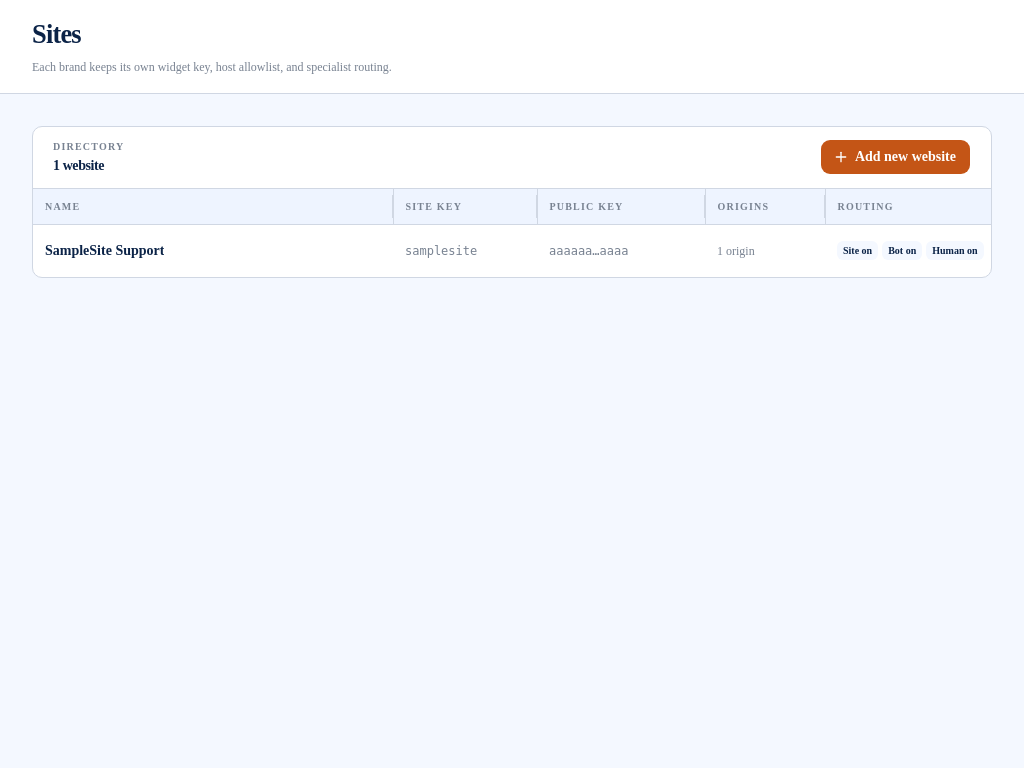
Test: sites add website form › website URL locks its origin into approved origins and that lock cannot be removed
The width and height of the screenshot is (1024, 768).
Click the button "Add new website": (895, 158) [820, 140, 971, 176]
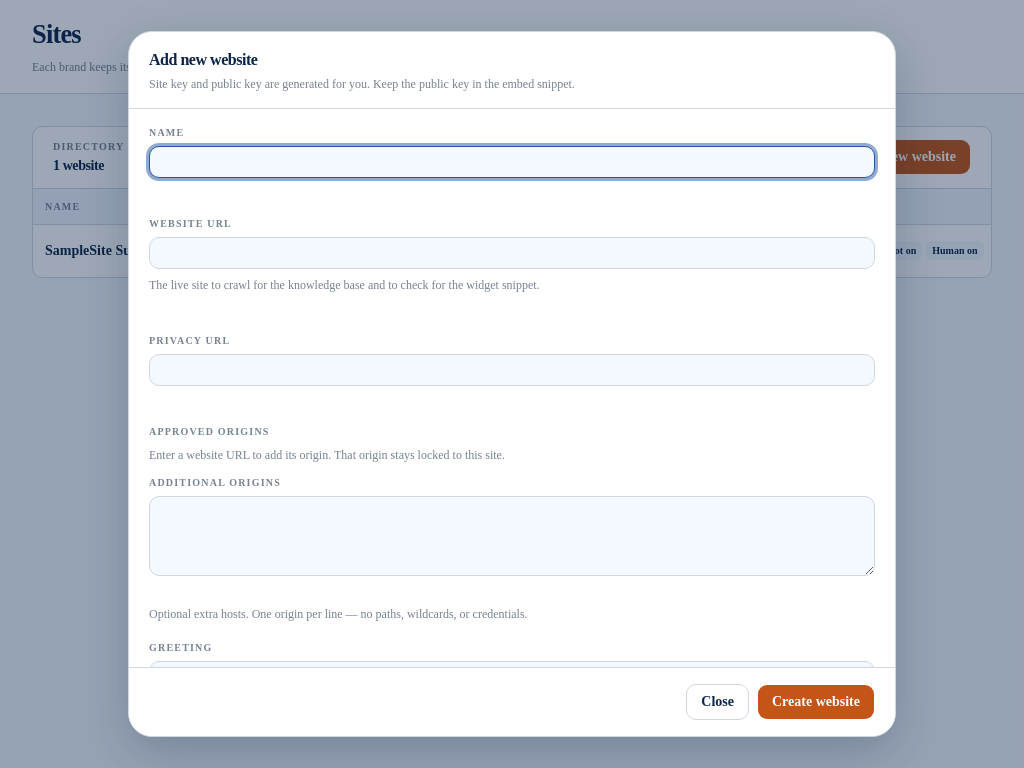
In the field labelled "Website URL": (512, 253) [149, 237, 875, 269], type "https://sample-services.example.com/careers"
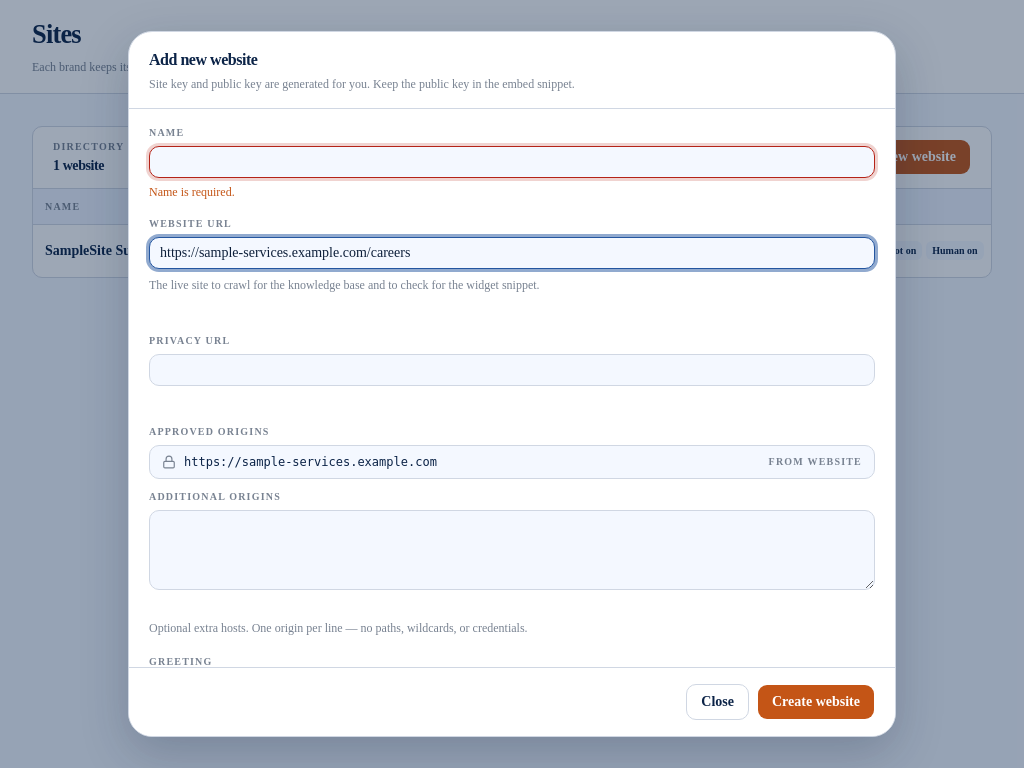
Expected: the text "Approved origins" is shown, [149, 426, 270, 437]
Expected: the text "https://sample-services.example.com" is shown, [184, 454, 437, 470]
